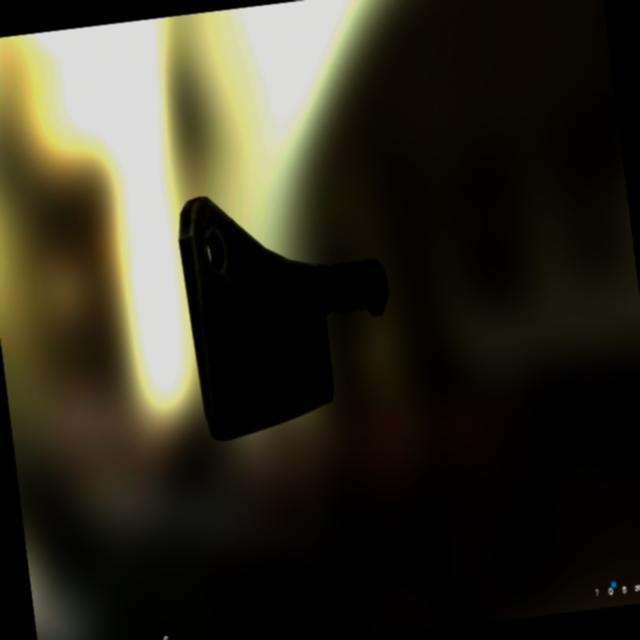cleaver: (176, 172, 400, 438)
